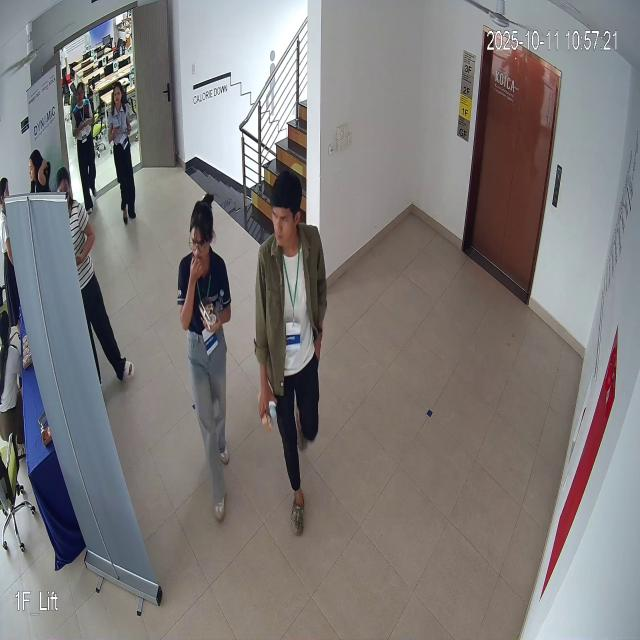face: (259, 154, 308, 252), (188, 186, 219, 277)
